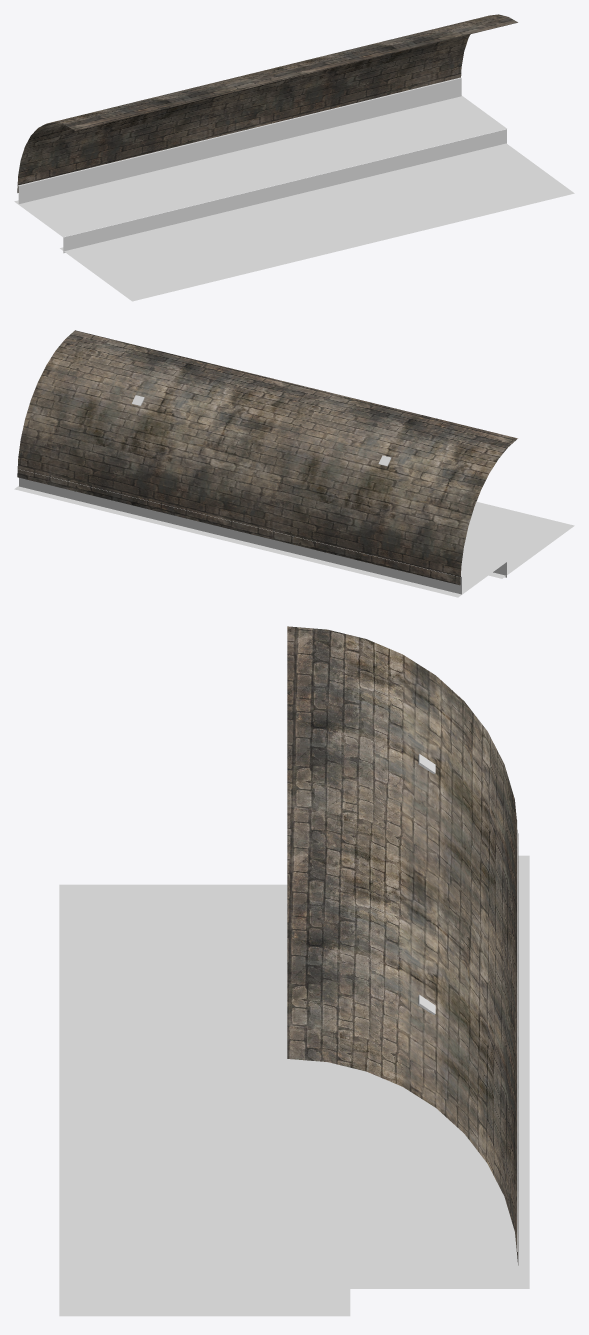
Rendered from Sewer test.fbx.
The picture shows the model from 3 angles, top to bottom: view 1: azimuth 30°, elevation 25°; view 2: azimuth 150°, elevation 25°; view 3: azimuth 270°, elevation 25°; orthographic projection. The views are drawn at different scales.
Visible parts, largest first — view 1: Sewer_merged-81_m, Cylinder, Sewer_merged-75_m; view 2: Cylinder, Sewer_merged-81_m, Sewer_merged-75_m; view 3: Sewer_merged-81_m, Cylinder.
Boxes of the visible parts, left/top/right/bottom form: Sewer_merged-81_m: left=14, top=95, right=574, bottom=301; Cylinder: left=17, top=14, right=517, bottom=192; Sewer_merged-75_m: left=18, top=77, right=506, bottom=253; Cylinder: left=17, top=330, right=517, bottom=585; Sewer_merged-81_m: left=14, top=486, right=574, bottom=597; Sewer_merged-75_m: left=19, top=469, right=506, bottom=594; Sewer_merged-81_m: left=59, top=855, right=529, bottom=1316; Cylinder: left=287, top=626, right=518, bottom=1265.
Size of the model in its own units: 2173 by 612 by 996.
